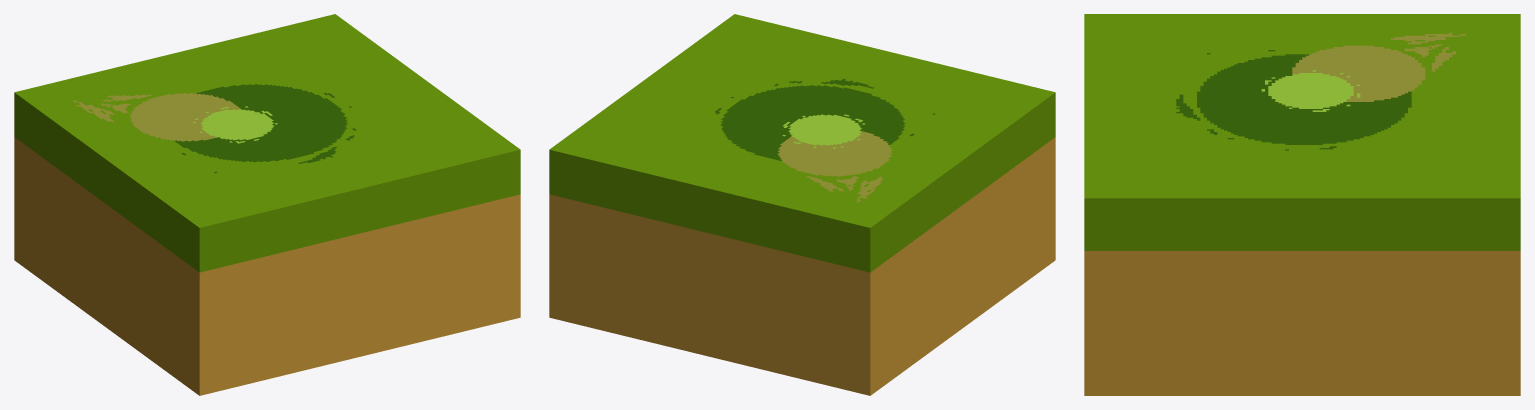
3 renders of one model, left to right at view 1: azimuth 30°, elevation 25°; view 2: azimuth 150°, elevation 25°; view 3: azimuth 270°, elevation 25°, orthographic. The views are drawn at different scales.
Parts seen in each view (by area): view 1: 11D; view 2: 11D; view 3: 11D.
Part boxes in pixels (x1=…): 11D: x1=14, y1=14, x2=520, y2=395; 11D: x1=549, y1=14, x2=1055, y2=395; 11D: x1=1084, y1=14, x2=1520, y2=395.
Size of the model in its own units: 12.8 by 6.4 by 12.8.
Materials: 1 (1 with a texture image).
